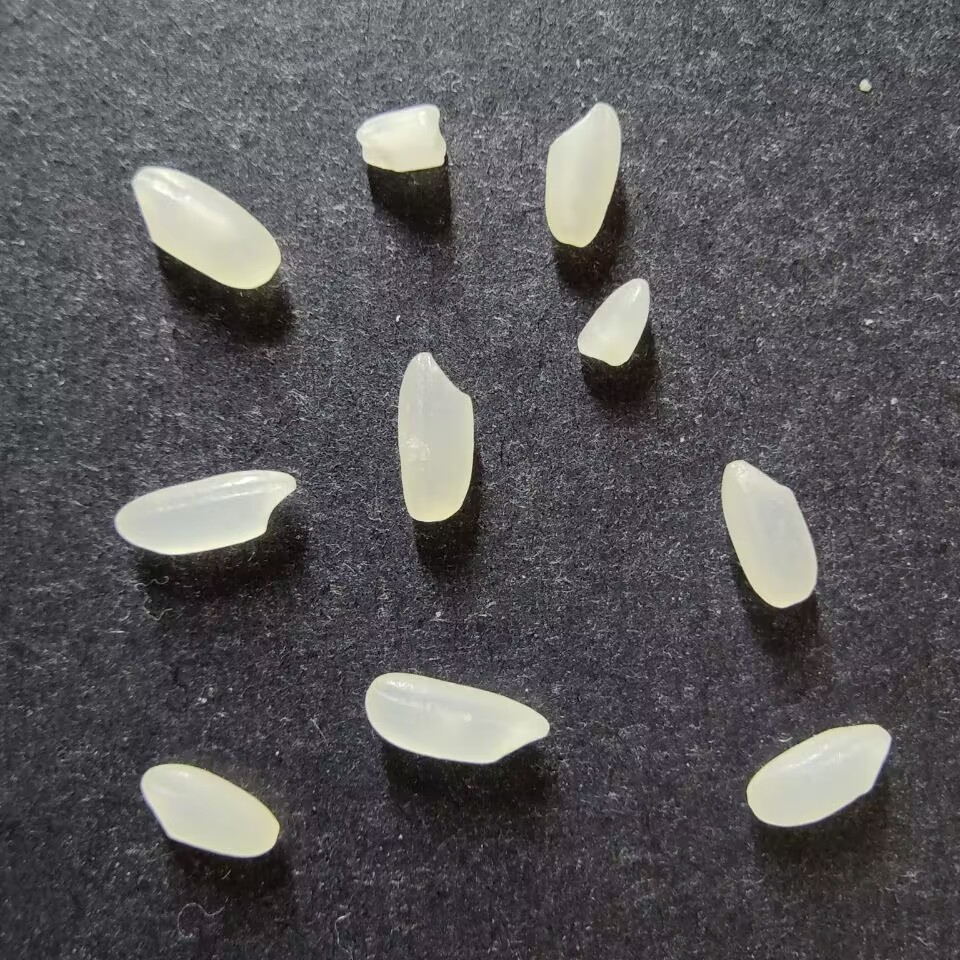broken: (575, 276, 650, 366), (355, 104, 447, 172)
rice: (131, 165, 281, 290), (364, 671, 550, 765), (113, 469, 296, 555), (745, 723, 891, 827), (720, 461, 818, 608), (396, 350, 475, 522), (140, 762, 280, 858), (543, 102, 621, 247)
